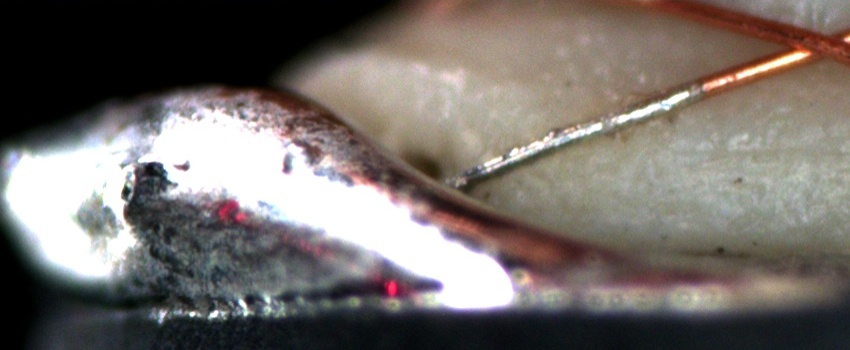CL: (759, 15, 846, 73)
DL: (659, 116, 850, 175)
TS: (449, 81, 703, 190)
